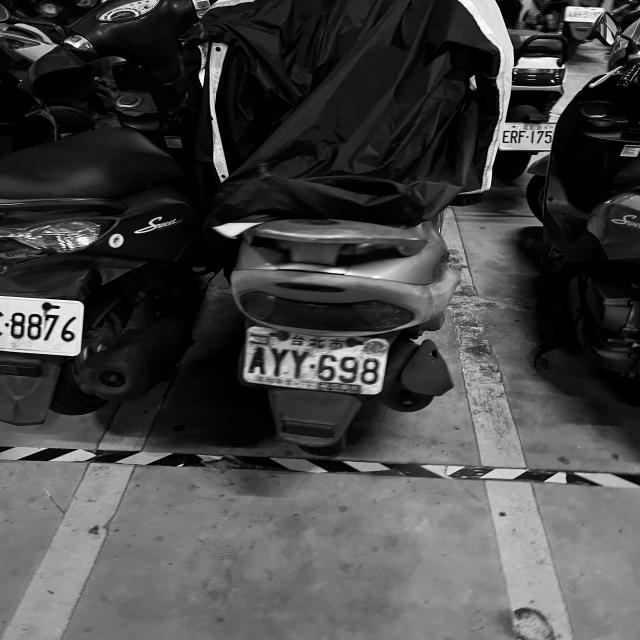-: (308, 362, 317, 369), (5, 321, 10, 327), (526, 136, 529, 138)
1: (530, 131, 536, 144)
5: (545, 131, 552, 144)
6: (318, 352, 338, 382), (61, 314, 78, 343)
7: (44, 314, 60, 340), (536, 130, 544, 144)
8: (361, 358, 380, 386), (10, 311, 27, 339), (27, 313, 42, 342)
9: (337, 352, 358, 383)
A: (248, 345, 268, 377)
E: (503, 130, 510, 143)
F: (519, 130, 526, 144)
R: (510, 130, 518, 144)
Y: (270, 345, 288, 378), (289, 348, 308, 378)
plate: (248, 329, 387, 393)
